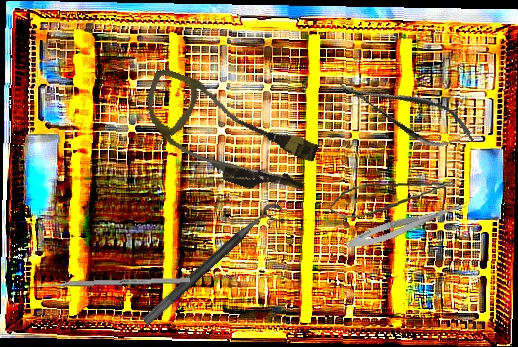Cannula: (129, 66, 327, 206)
Fixation Ring: (141, 198, 291, 338)
Micro Scissor: (330, 63, 483, 162), (343, 193, 472, 255), (326, 176, 459, 221)
Pusher: (25, 277, 191, 289)
